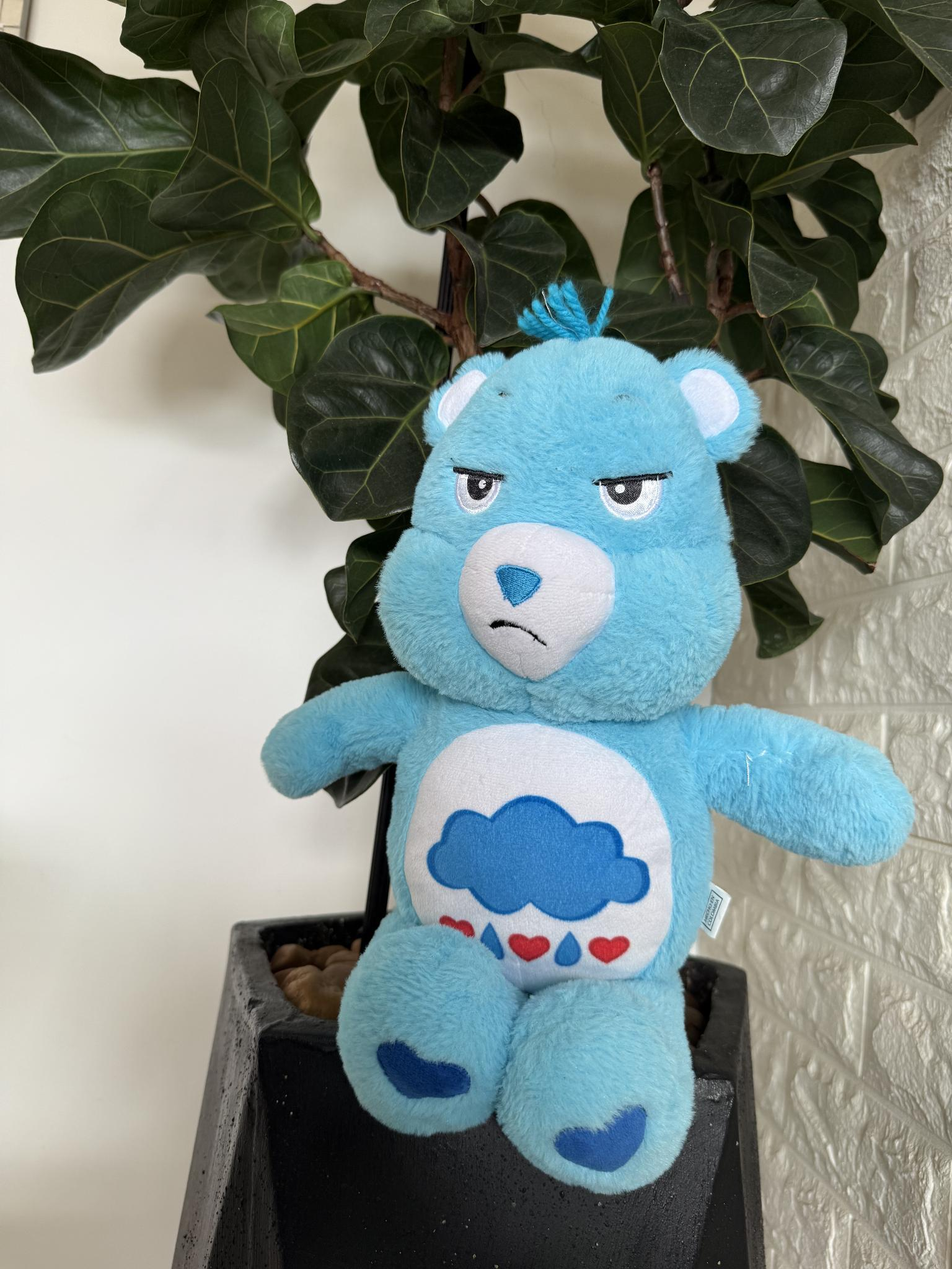peluche_Juan Jose: (259, 277, 911, 1194)
